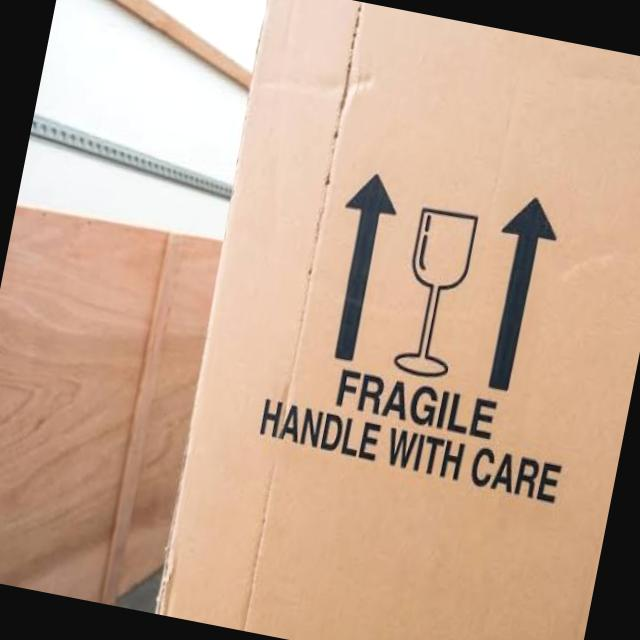fragile_label: (245, 142, 596, 519)
